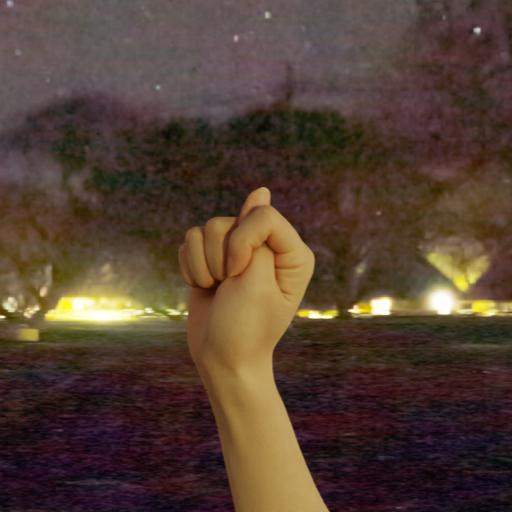T: (126, 149, 407, 512)
